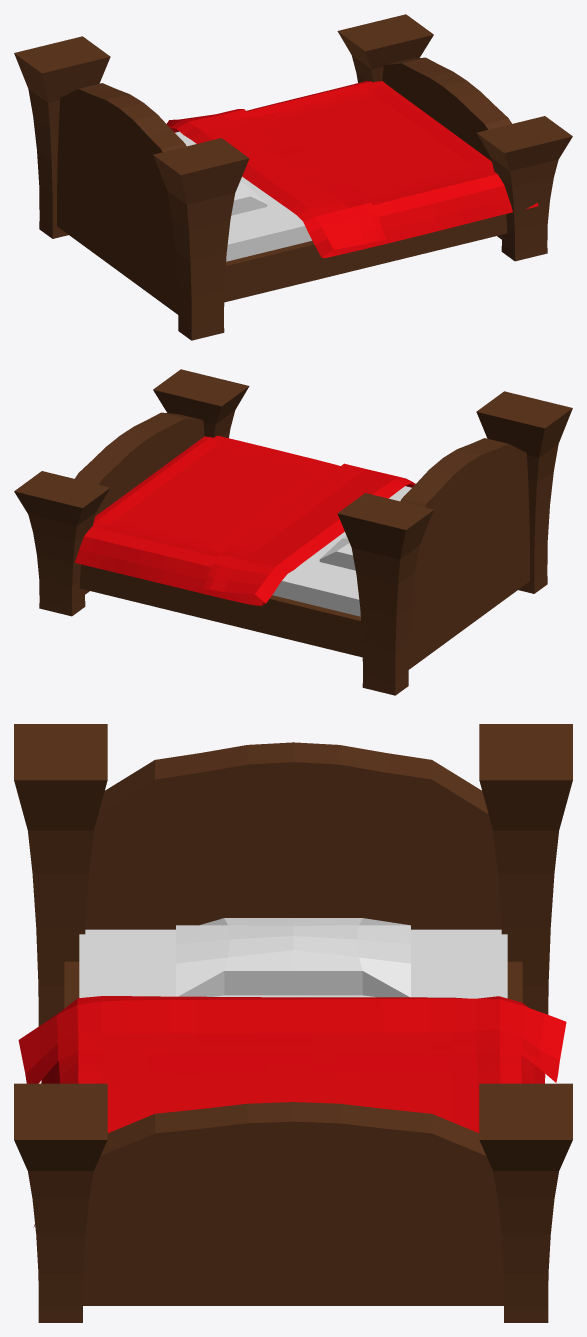
File: Bed.fbx
3 views of the same model, one above another, from view 1: azimuth 30°, elevation 25°; view 2: azimuth 150°, elevation 25°; view 3: azimuth 270°, elevation 25° (orthographic). The views are drawn at different scales.
Parts seen in each view (by area): view 1: Bed_Base, Blanket, Bed, Pillow; view 2: Bed_Base, Blanket, Bed, Pillow; view 3: Bed_Base, Blanket, Pillow, Bed.
Boxes of the visible parts, box(x1,y1,x2,y2) form: Bed_Base: box(14, 14, 572, 340); Blanket: box(167, 81, 538, 258); Bed: box(175, 131, 311, 261); Pillow: box(231, 180, 267, 215); Bed_Base: box(14, 369, 572, 695); Blanket: box(74, 435, 415, 605); Bed: box(272, 486, 411, 616); Pillow: box(319, 535, 355, 570); Bed_Base: box(14, 724, 572, 1322); Blanket: box(18, 996, 566, 1227); Pillow: box(176, 918, 410, 997); Bed: box(79, 929, 507, 998).
Size of the model in its own units: 380 by 162 by 280.
